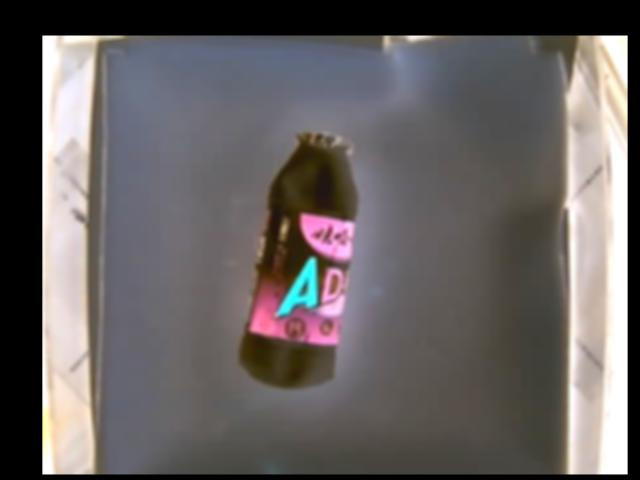Bottle: (237, 134, 360, 389)
